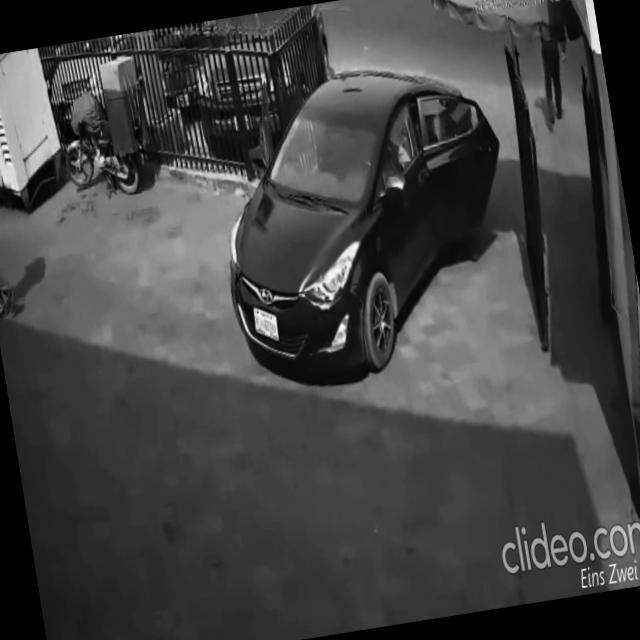person: (532, 16, 584, 131)
